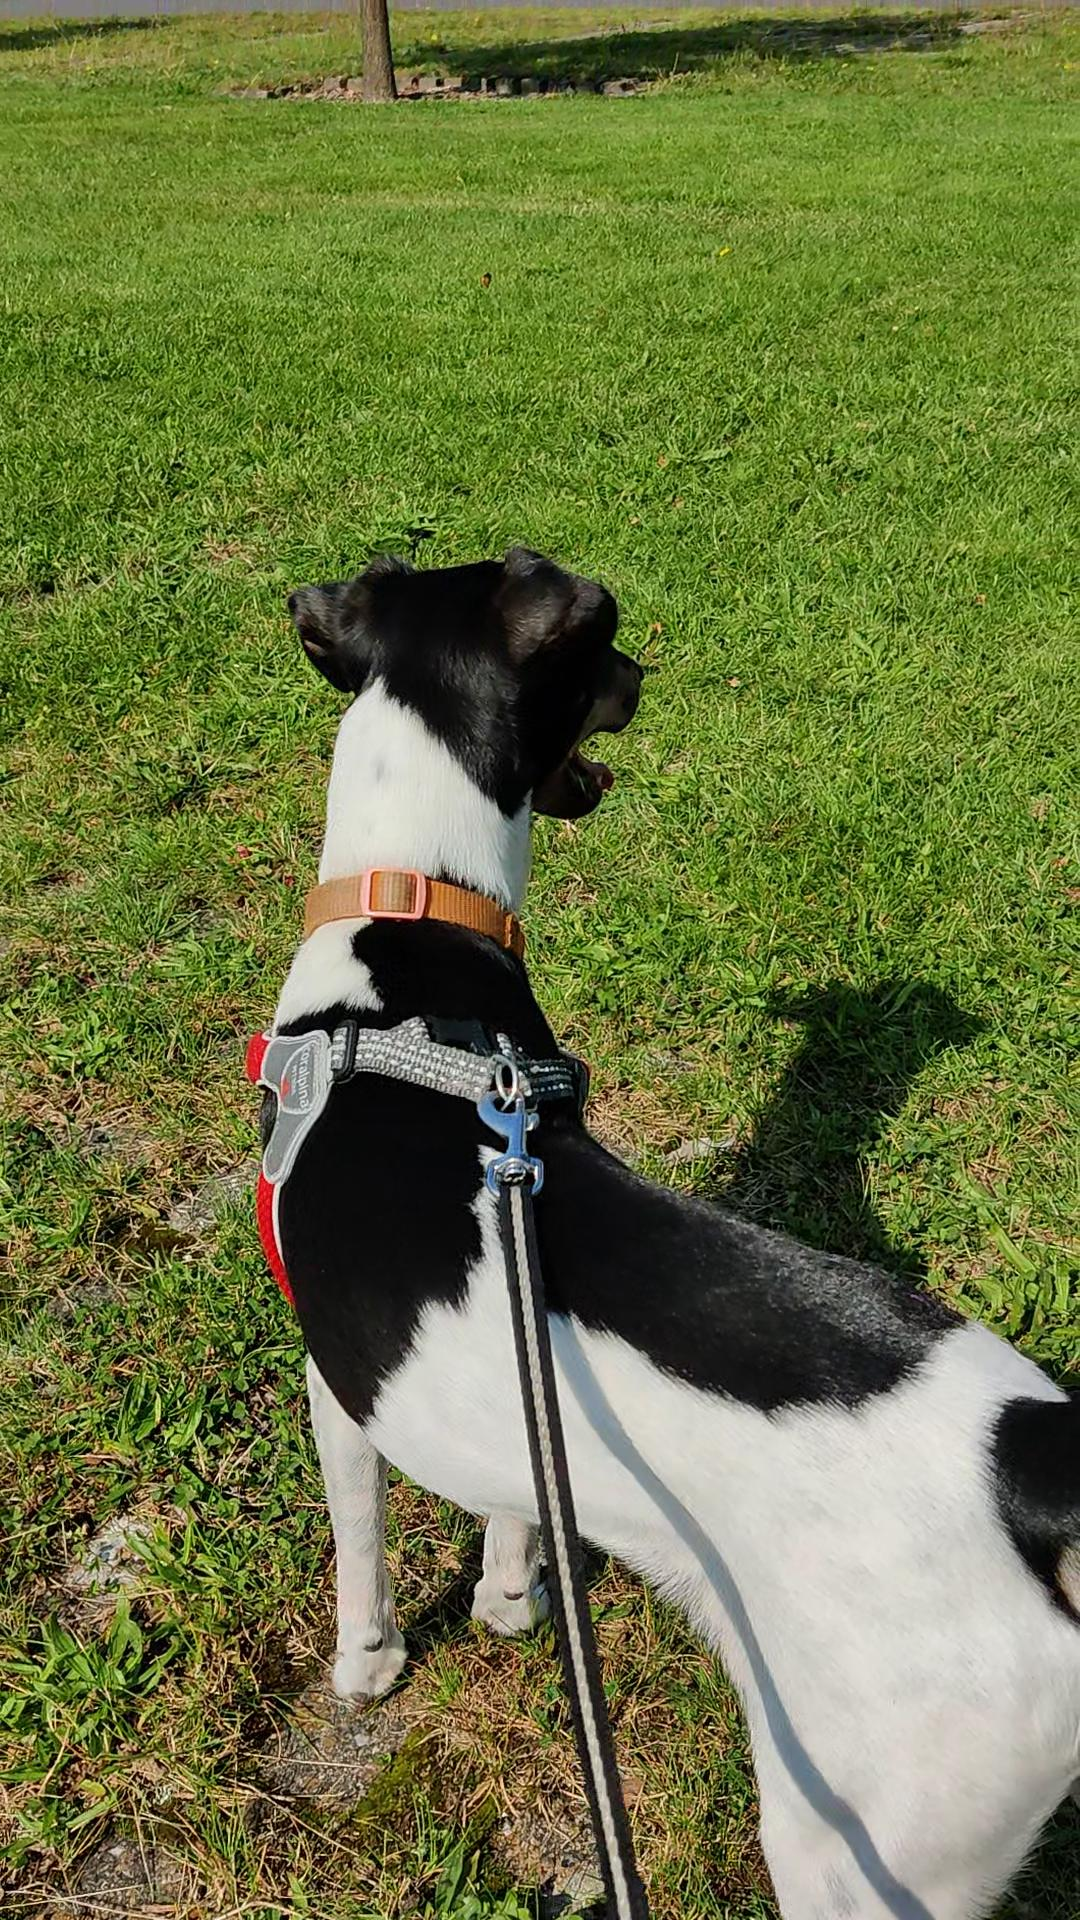Dog: (225, 545, 1079, 1919)
